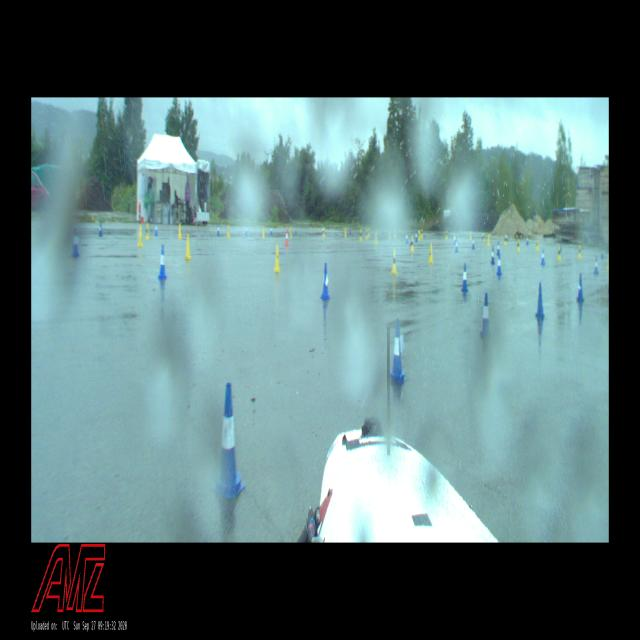blue_cone: (212, 382, 245, 498), (390, 319, 406, 385), (480, 293, 489, 335), (320, 263, 330, 299), (535, 283, 545, 317), (158, 245, 167, 280), (576, 274, 584, 301), (71, 230, 79, 257), (461, 264, 468, 292), (497, 253, 502, 276), (541, 248, 545, 265), (594, 257, 598, 273), (491, 248, 495, 264), (455, 238, 459, 252), (154, 223, 158, 236), (99, 220, 102, 237), (472, 236, 475, 248), (497, 242, 500, 254), (217, 225, 219, 236), (454, 233, 456, 244), (349, 227, 352, 234), (406, 233, 408, 243), (526, 235, 528, 245), (270, 226, 272, 235), (295, 226, 297, 235), (601, 250, 603, 259), (245, 228, 247, 235), (416, 231, 417, 239)
large_orange_cone: (285, 229, 289, 245)
yellow_cone: (184, 235, 191, 260), (274, 245, 280, 272), (392, 249, 398, 273), (138, 226, 143, 247), (429, 244, 433, 264), (178, 224, 182, 239), (410, 237, 414, 251), (557, 246, 561, 260), (146, 224, 149, 240), (516, 240, 520, 251), (227, 225, 230, 238), (578, 245, 581, 257), (486, 234, 489, 246), (418, 229, 421, 240), (262, 227, 265, 237), (606, 254, 608, 268), (375, 230, 377, 243), (536, 239, 538, 251), (360, 230, 362, 242), (366, 228, 368, 239), (469, 232, 472, 239), (483, 232, 485, 242), (504, 235, 506, 245), (290, 227, 292, 237), (323, 228, 325, 237), (446, 230, 448, 239), (344, 227, 346, 236), (421, 229, 422, 238), (368, 229, 369, 236)
